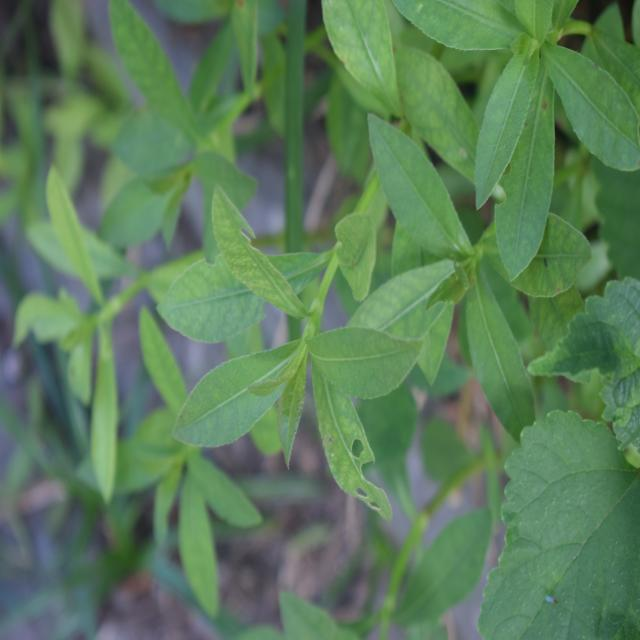Alligatorweed: (152, 174, 428, 516)
